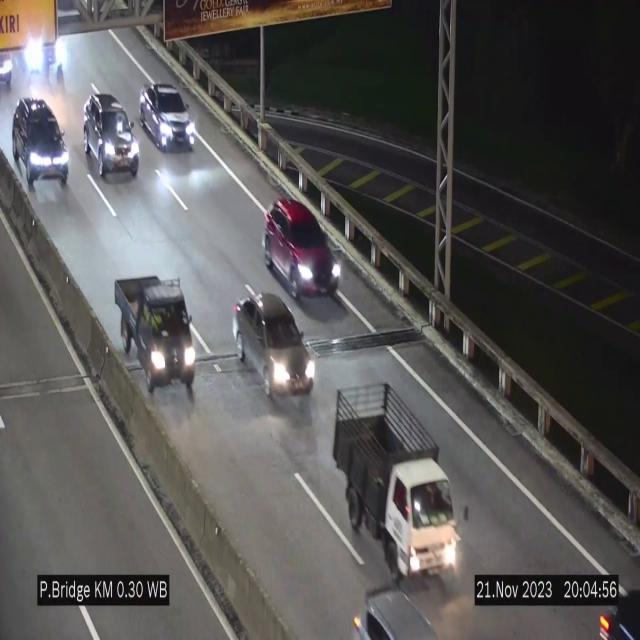Car: (232, 291, 316, 401), (260, 194, 342, 298), (335, 573, 447, 640), (12, 98, 70, 189), (84, 93, 138, 179), (139, 83, 195, 147)
Truck: (328, 386, 463, 584), (115, 274, 199, 402)
